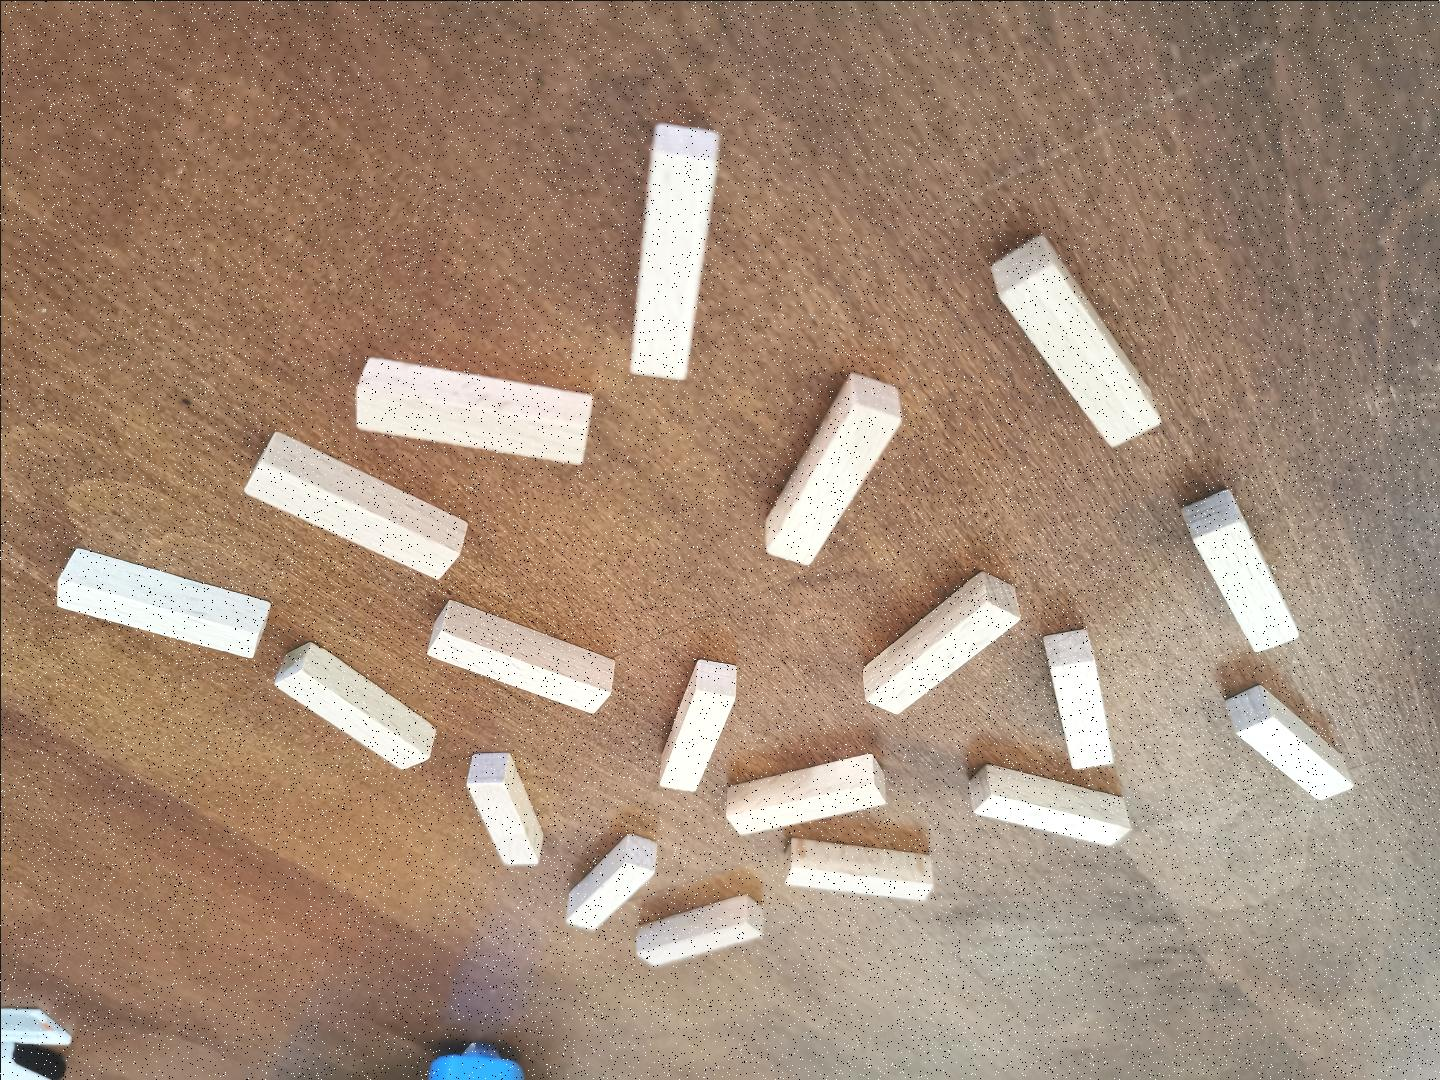jenga: (990, 234, 1159, 445), (245, 430, 467, 576), (765, 371, 900, 563), (355, 357, 591, 464), (57, 548, 270, 656), (630, 124, 718, 380), (864, 571, 1018, 711), (427, 599, 613, 711), (273, 641, 433, 768), (1181, 489, 1296, 650), (1223, 683, 1353, 799), (967, 762, 1128, 844), (726, 753, 886, 833), (658, 658, 734, 791), (785, 835, 934, 900), (1043, 627, 1111, 768), (636, 894, 762, 964), (566, 833, 655, 928), (467, 751, 543, 863)
